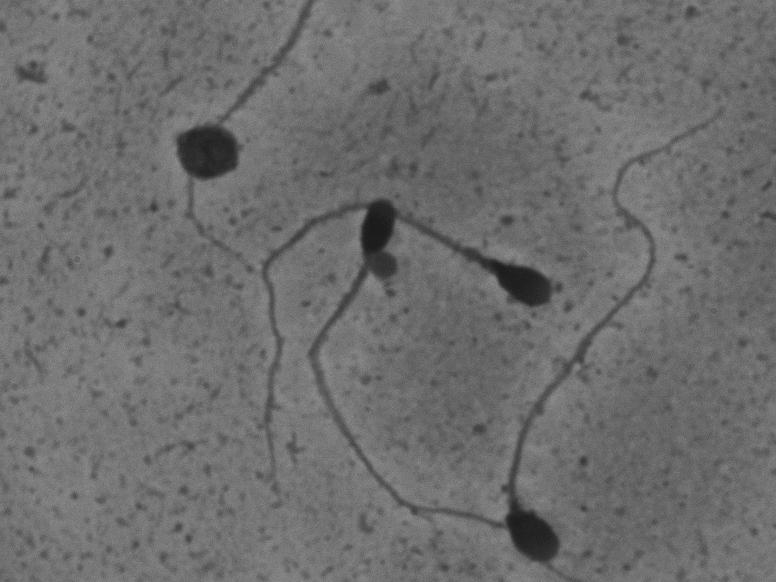Abnormal: (500, 98, 730, 570), (237, 183, 558, 514)
